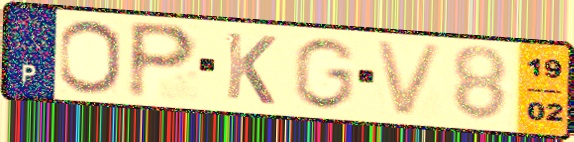8: (448, 43, 515, 126)
G: (289, 35, 359, 113)
K: (223, 29, 279, 108)
O: (56, 18, 124, 96)
P: (124, 18, 201, 103)
V: (371, 37, 449, 120)
